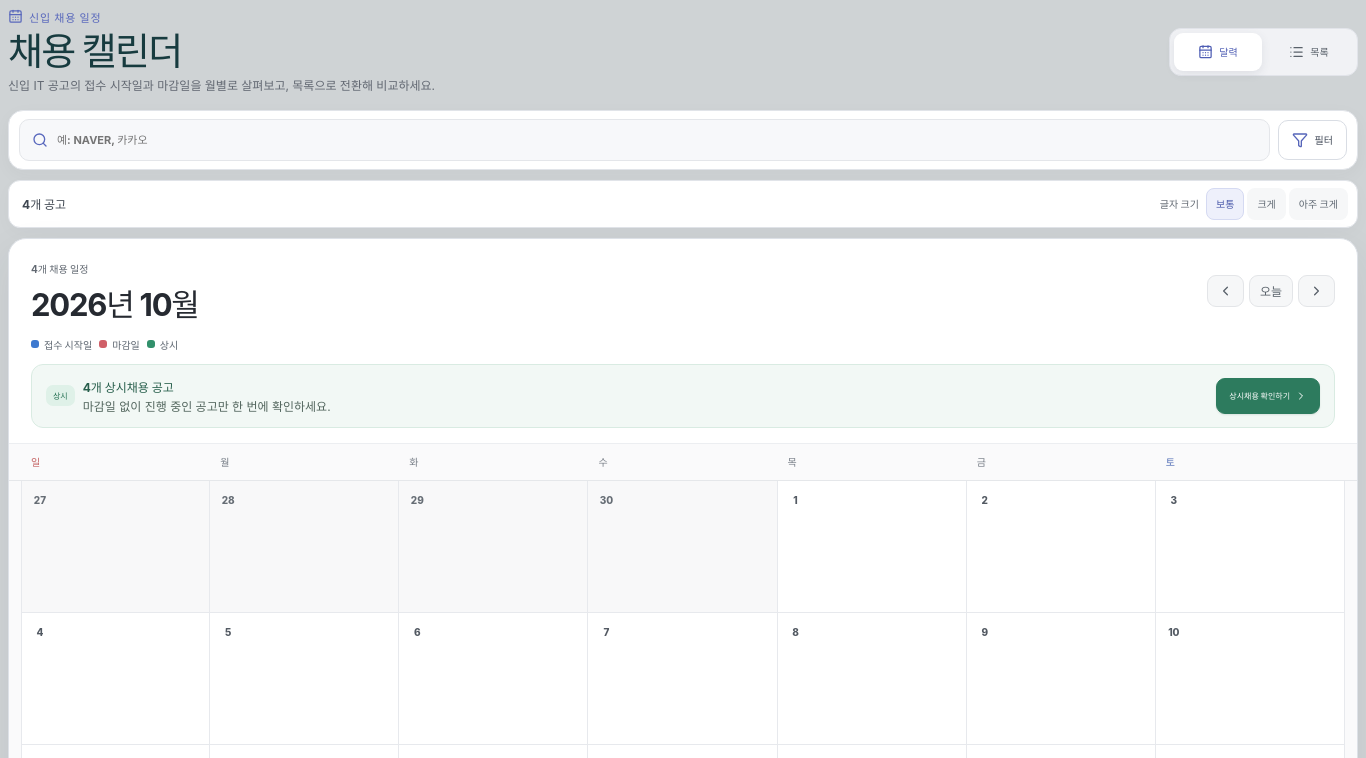
domain pages › shows only Korean job filters and merges equivalent category values
The image size is (1366, 758).
Click the button with aria-label "채용공고 필터".
click(1312, 140)  # box [1278,120,1347,160]
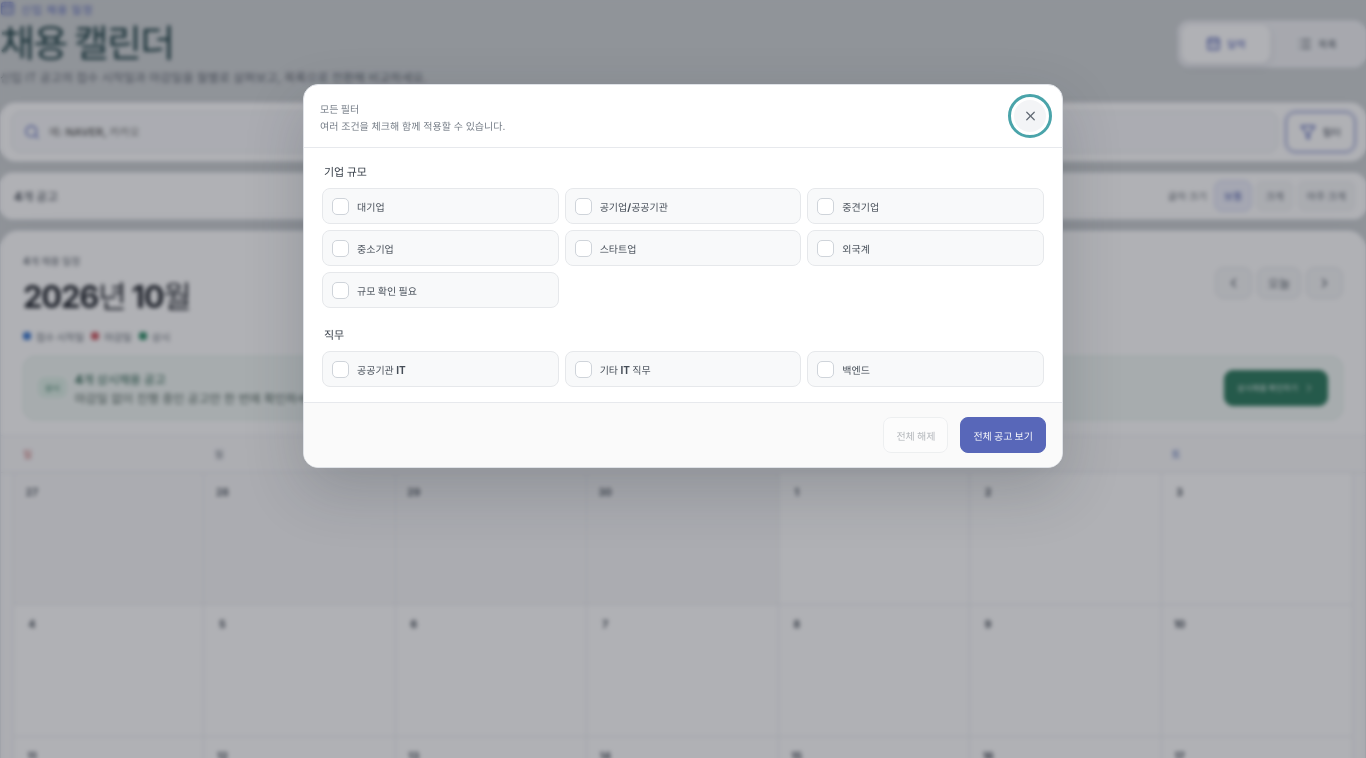
Now the checkbox labelled "공공기관 IT" is shown, box [322,351,559,387]
Now the checkbox labelled "기타 IT 직무" is shown, box [565,351,801,387]
